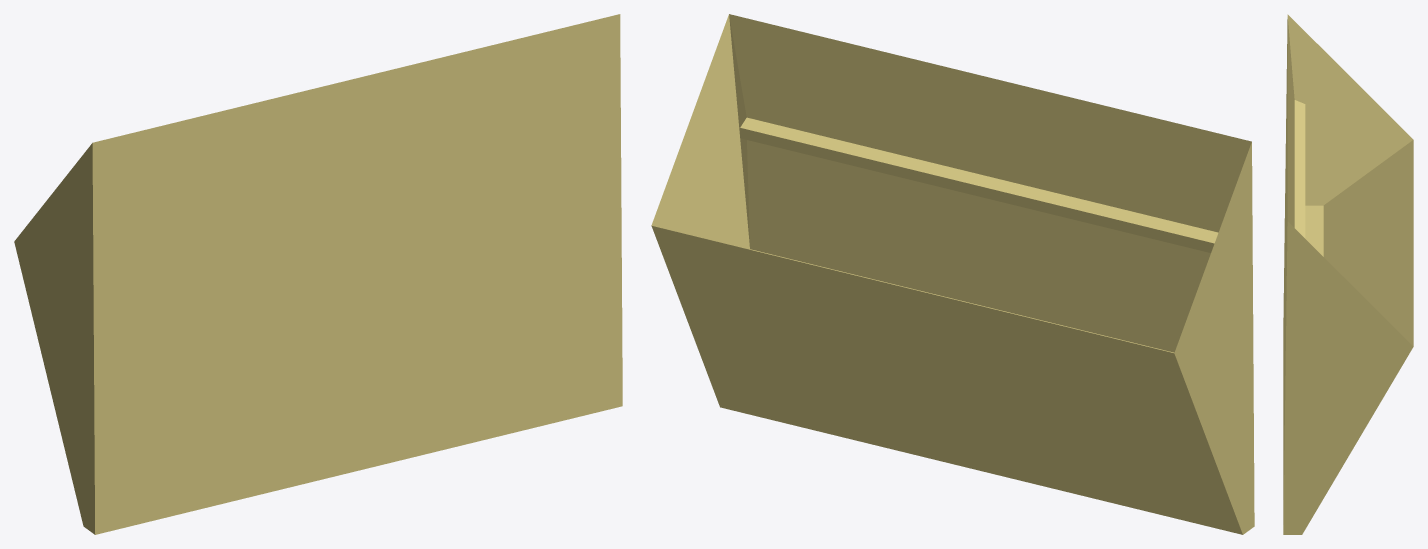
The model's file is piss_bucket_v02.fbx.
3 renders of one model, left to right at view 1: azimuth 30°, elevation 25°; view 2: azimuth 150°, elevation 25°; view 3: azimuth 270°, elevation 25°, orthographic. The views are drawn at different scales.
Parts seen in each view (by area): view 1: pCube375; view 2: pCube375; view 3: pCube375.
Boxes of the visible parts, bbox=[...] form: pCube375: bbox=[14, 14, 622, 534]; pCube375: bbox=[651, 14, 1254, 534]; pCube375: bbox=[1283, 14, 1413, 534].
Size of the model in its own units: 220 by 156 by 58.52.
